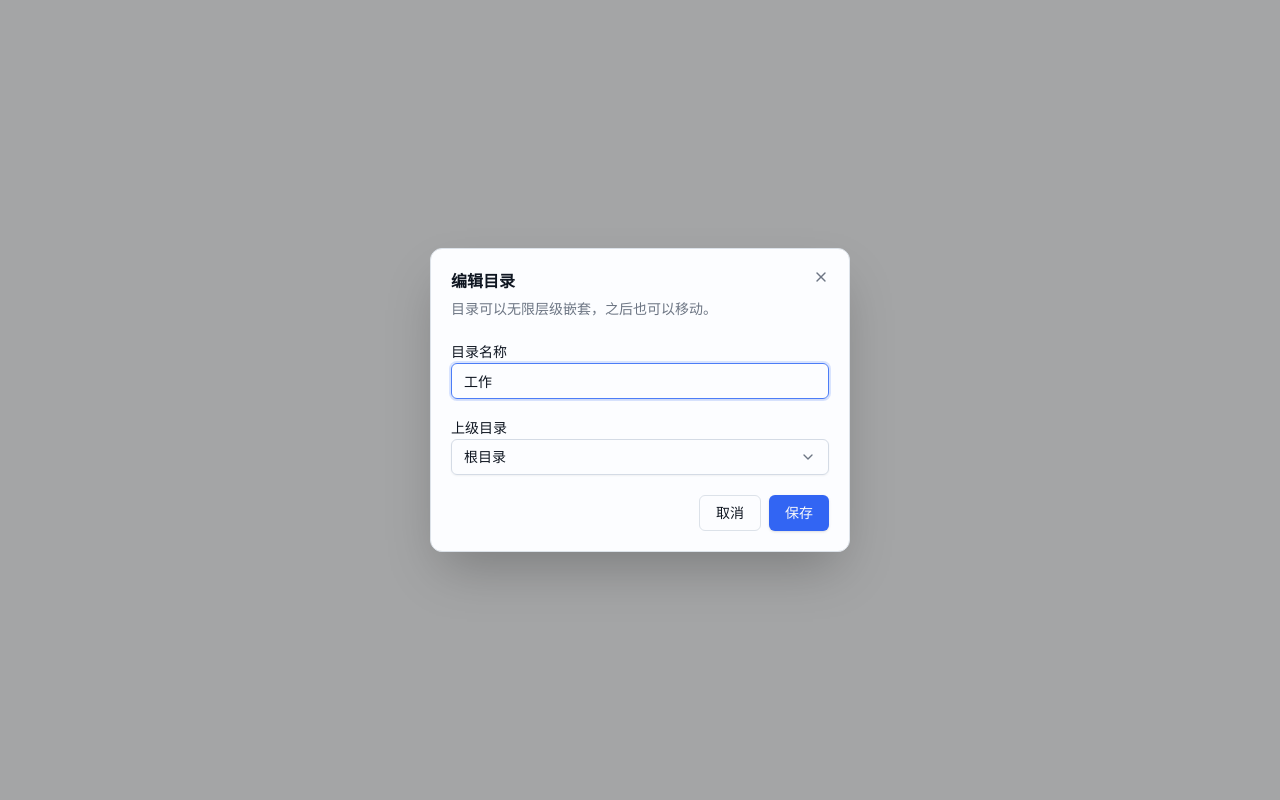
directory dialog cascaders › excludes the edited folder and all descendants from parent choices
Click the button with aria-label "上级目录：根目录" at (485, 456), box [451, 439, 829, 475]
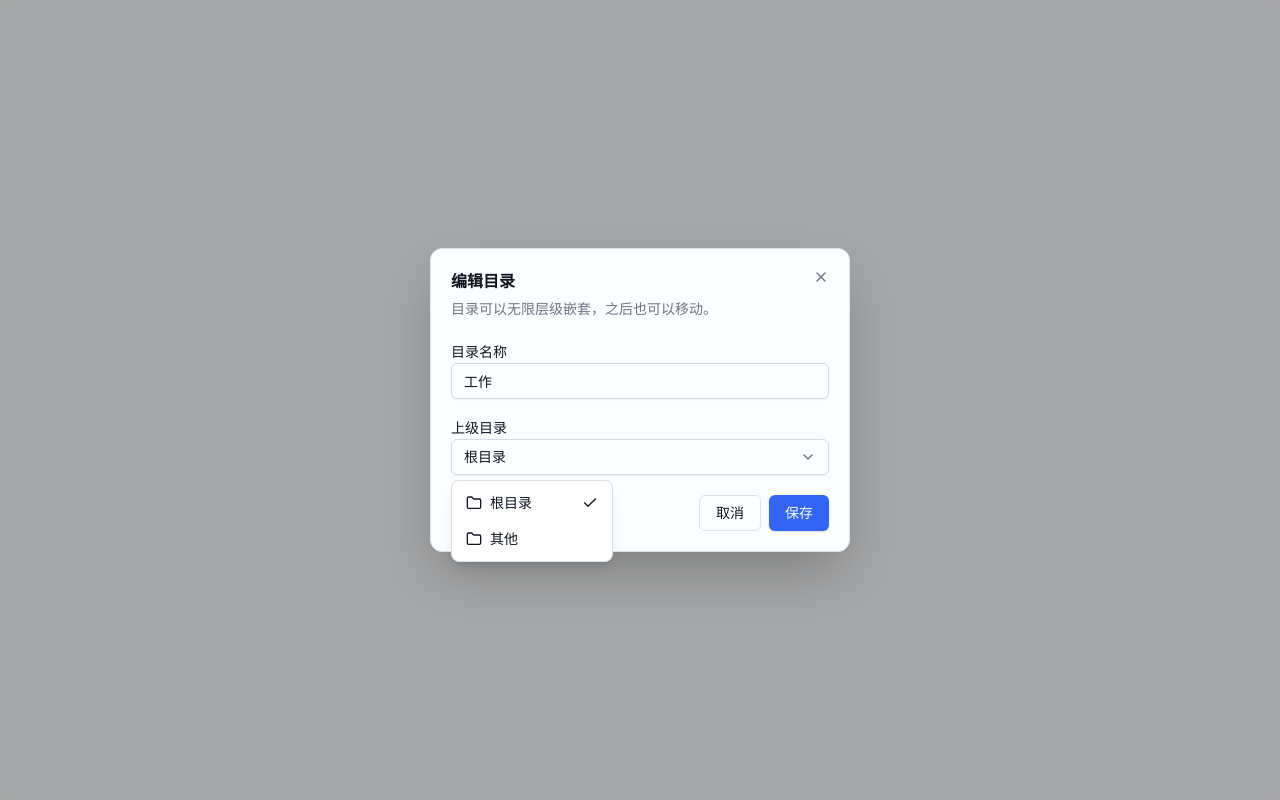
Check: the text "其他" is shown, box [490, 530, 518, 547]
